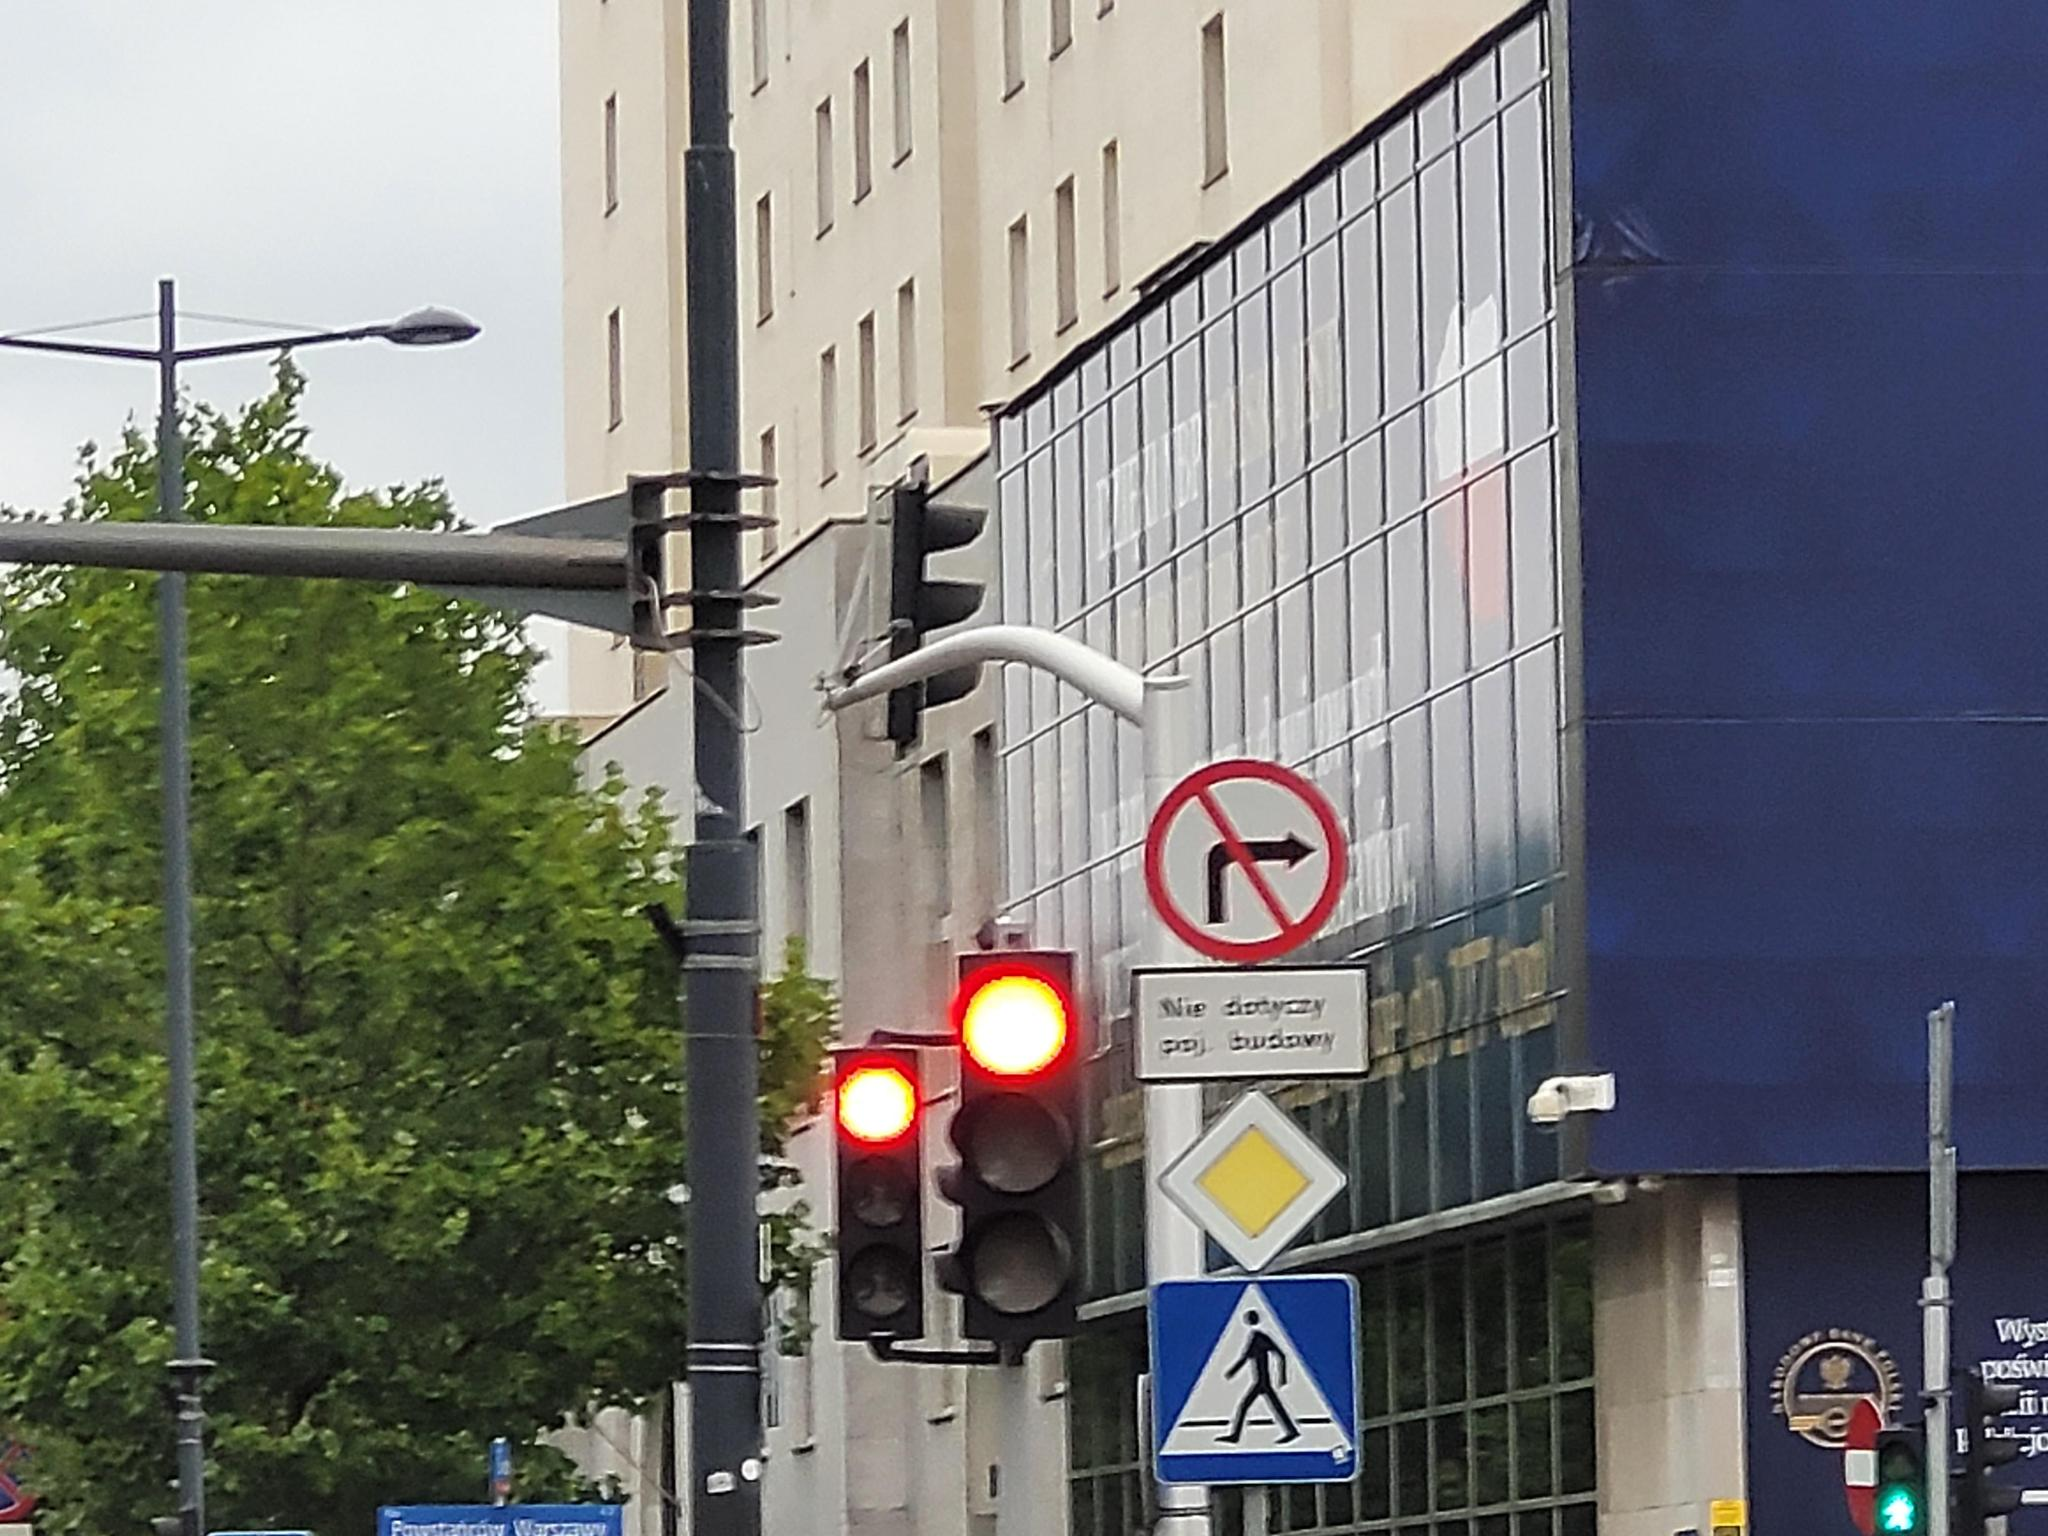information: (1151, 1279, 1355, 1484), (1156, 1091, 1350, 1276)
other: (1134, 973, 1367, 1078)
prohibitory: (1143, 757, 1350, 966), (1845, 1394, 1879, 1533)
